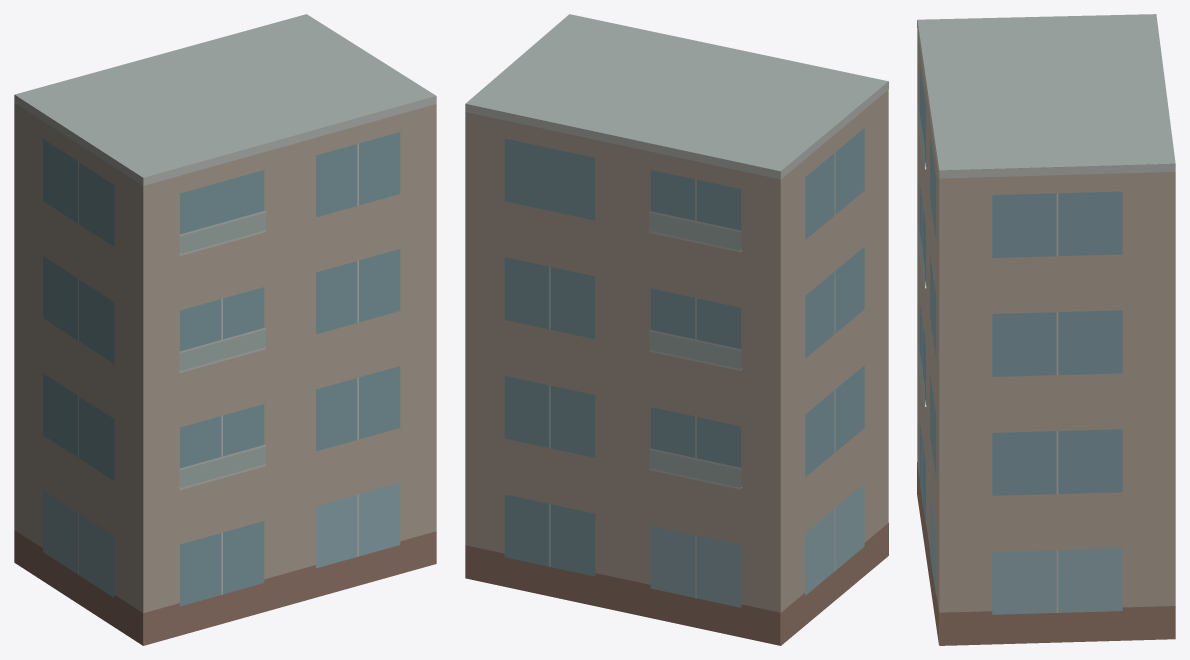
The model's file is survey-upis-32622349.glb.
3 renders of one model, left to right at view 1: azimuth 30°, elevation 25°; view 2: azimuth 150°, elevation 25°; view 3: azimuth 270°, elevation 25°, orthographic.
Parts seen in each view (by area): view 1: survey-upis-32622349.tmp; view 2: survey-upis-32622349.tmp; view 3: survey-upis-32622349.tmp.
Part boxes in pixels (x1,y1,x2,y2): survey-upis-32622349.tmp: (14,14,436,645); survey-upis-32622349.tmp: (465,14,888,645); survey-upis-32622349.tmp: (917,14,1175,645).
Bounding box in the file's own units: 9.97 × 14.13 × 6.97.
